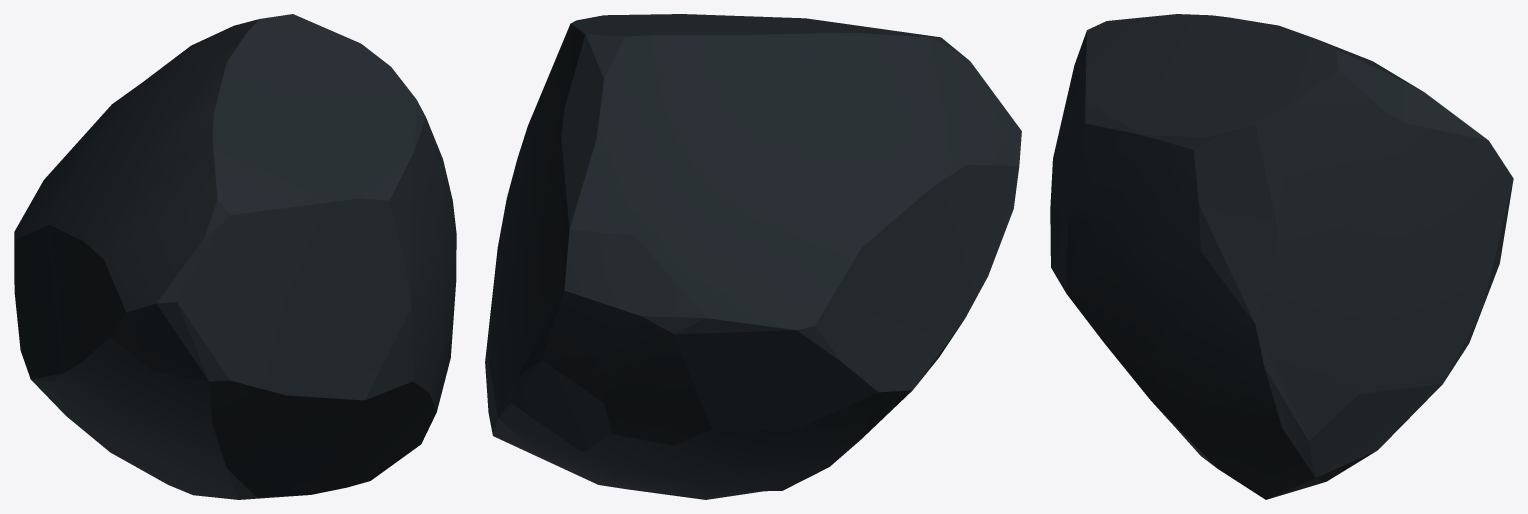
File: Asteroid_s_20.FBX
The picture shows the model from 3 angles, left to right: view 1: azimuth 30°, elevation 25°; view 2: azimuth 150°, elevation 25°; view 3: azimuth 270°, elevation 25°; orthographic projection. The views are drawn at different scales.
Visible parts, largest first — view 1: Asteroid_s_20; view 2: Asteroid_s_20; view 3: Asteroid_s_20.
Part boxes in pixels (x1,y1,x2,y2): Asteroid_s_20: (14,14,456,499); Asteroid_s_20: (485,14,1021,499); Asteroid_s_20: (1050,14,1513,499).
Size of the model in its own units: 133 by 136 by 138.
